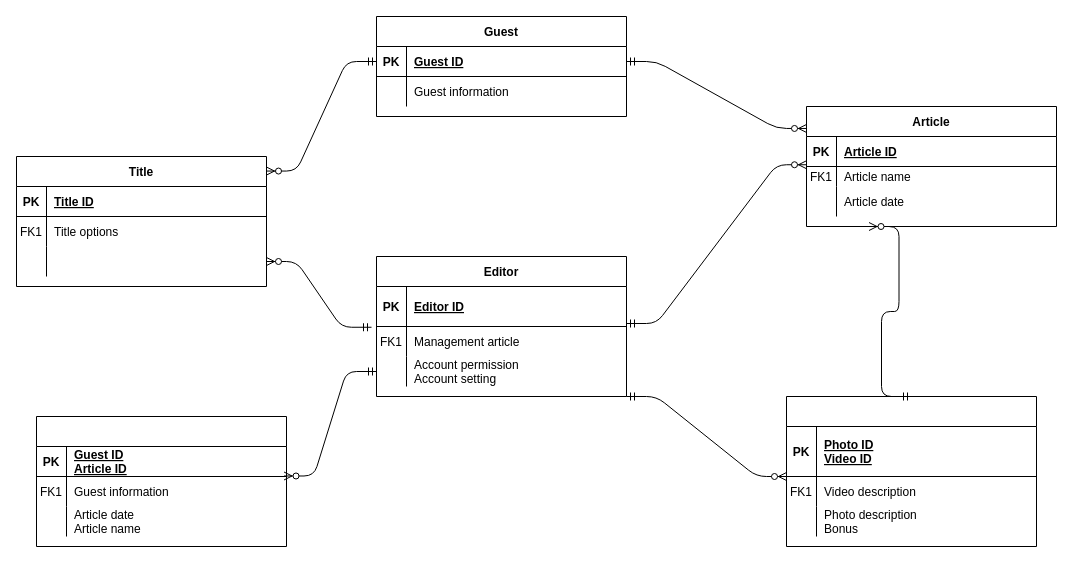
Some shapes in this 1073 by 563 pixel diagram are drawn without their labels. Here are the shapes that lost their labels. From the top down, the box of each, then its label:
(36, 416, 286, 546): Mine
(786, 396, 1036, 546): Reporter
